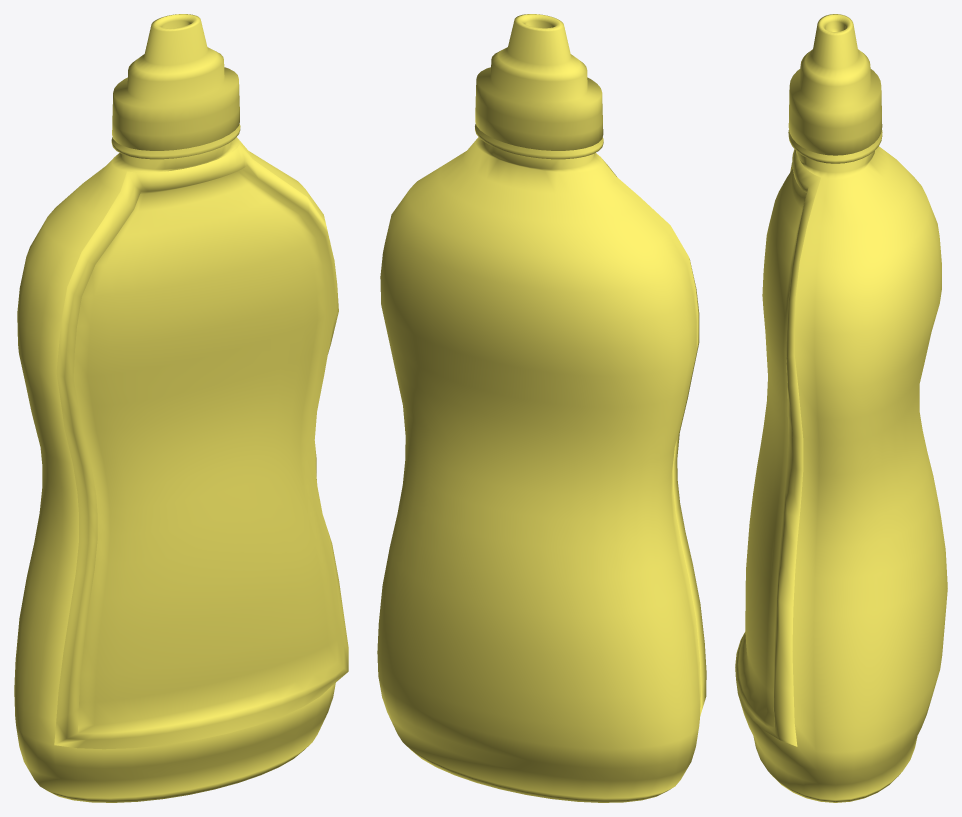
File: Mustard.fbx
3 renders of one model, left to right at view 1: azimuth 30°, elevation 25°; view 2: azimuth 150°, elevation 25°; view 3: azimuth 270°, elevation 25°, orthographic. The views are drawn at different scales.
Parts seen in each view (by area): view 1: Cylinder; view 2: Cylinder; view 3: Cylinder.
Part boxes in pixels (x1,y1,x2,y2): Cylinder: (14, 14, 348, 802); Cylinder: (377, 14, 706, 802); Cylinder: (735, 14, 947, 802).
Bounding box in the file's own units: 96.77 × 226 × 59.89.
